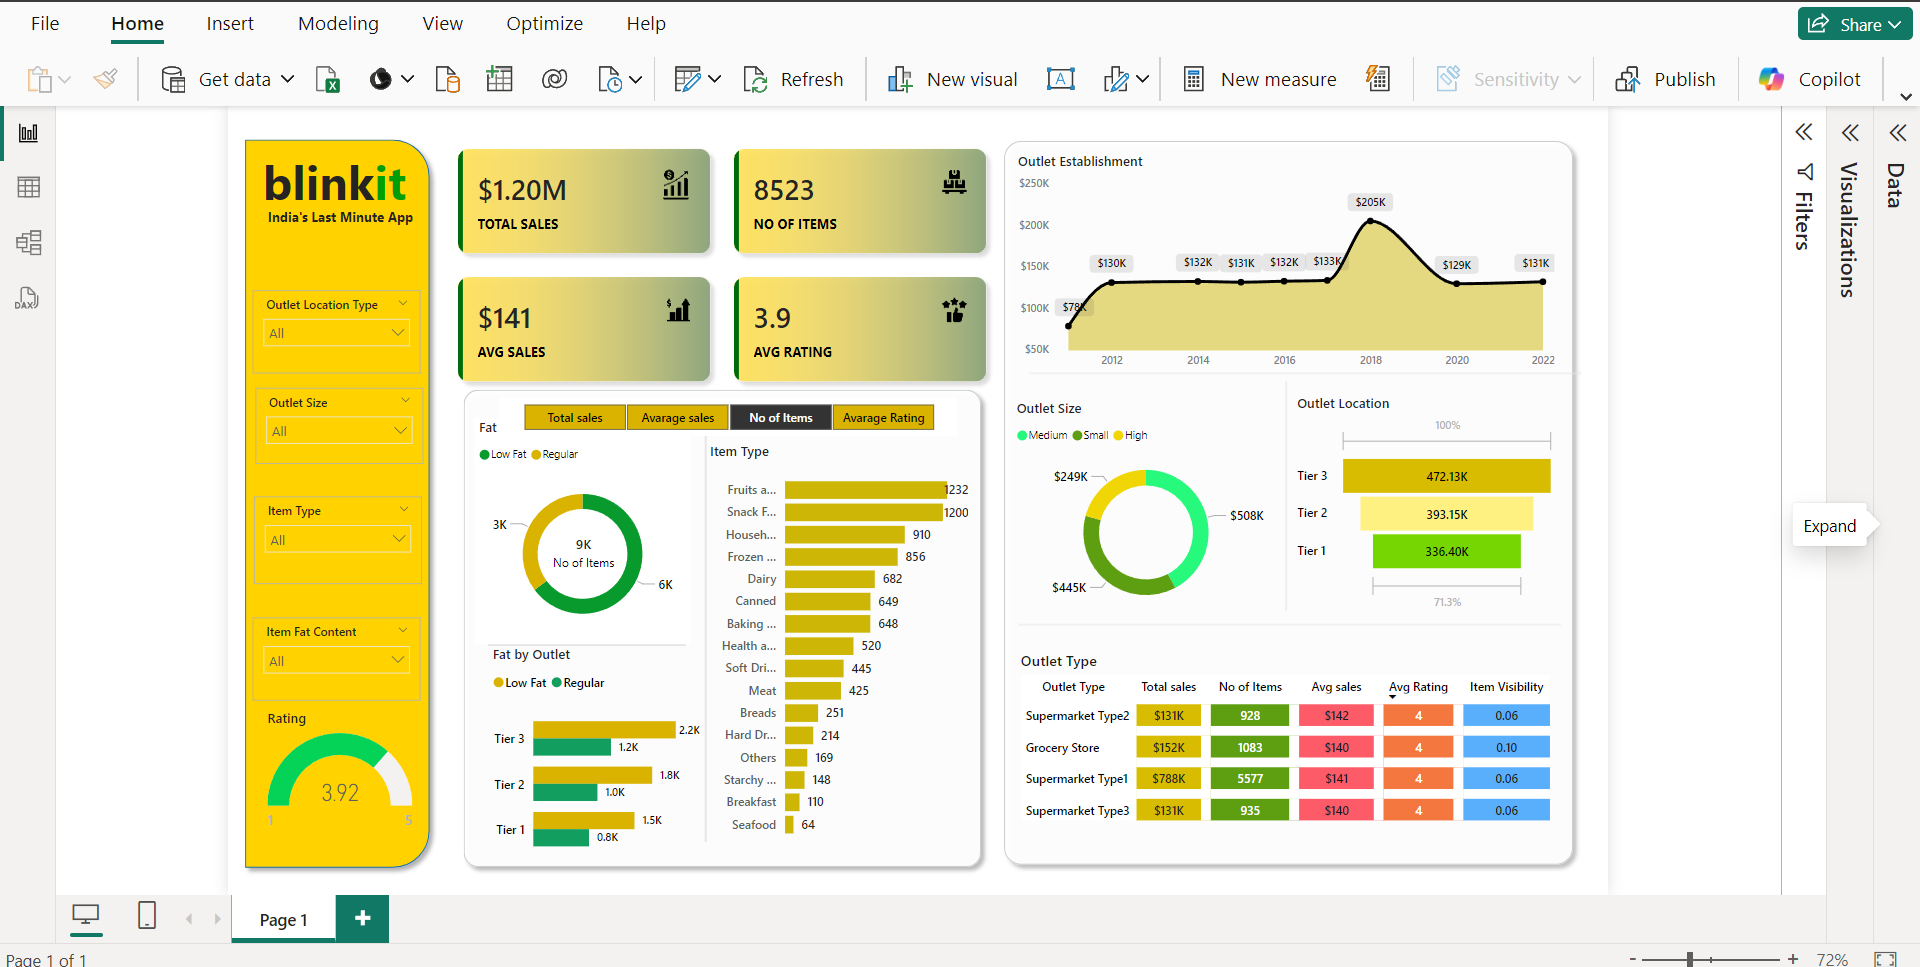

The page's visual inventory and layout, read from the dashboard file:
{"tool":"powerbi","page":{"name":"Page 1","canvas":[1400,800],"ordinal":0},"visuals":[{"type":"shape","box":[8.7,24.7,205.2,756.6],"z":0},{"type":"textbox","box":[8.7,39.3,199.3,74.2],"z":1000},{"type":"textbox","box":[18.9,97.5,189.2,32],"z":2000},{"type":"cardVisual","fields":{"Data":["BlinkIT Grocery Data.Total sales","BlinkIT Grocery Data.No of Items","BlinkIT Grocery Data.Avarage sales","BlinkIT Grocery Data.Avarage Rating"]},"box":[216.8,26.2,570.4,270.6],"z":3000},{"type":"shape","box":[229.9,279.4,542.7,502],"z":4000},{"type":"donutChart","title":"Fat Content","fields":{"Y":["BlinkIT Grocery Data.No of Items"],"Category":["BlinkIT Grocery Data.Item Fat Content"]},"box":[250.3,317.2,219.7,229.9],"z":5000},{"type":"slicer","fields":{"Values":["Metrics.Metrics"]},"box":[275,295.4,465.6,39.3],"z":6000},{"type":"cardVisual","fields":{"Data":["BlinkIT Grocery Data.No of Items"]},"box":[302.6,419.1,116.4,65.5],"z":7000},{"type":"clusteredBarChart","title":"Fat by Outlet","fields":{"Y":["BlinkIT Grocery Data.No of Items"],"Category":["BlinkIT Grocery Data.Outlet Location Type"],"Series":["BlinkIT Grocery Data.Item Fat Content"]},"box":[263.4,547.1,219.7,229.9],"z":8000},{"type":"shape","box":[263.4,526.7,200.8,39.3],"z":9000},{"type":"shape","box":[470,334.7,29.1,411.8],"z":10000},{"type":"barChart","title":" Item Type","fields":{"Y":["BlinkIT Grocery Data.No of Items"],"Category":["BlinkIT Grocery Data.Item Type"]},"box":[484.5,340.5,272.1,411.8],"z":11000},{"type":"shape","box":[778.4,26.2,595.1,752.3],"z":12000},{"type":"lineChart","title":"Outlet Establishment ","fields":{"Category":["BlinkIT Grocery Data.Outlet Establishment Year"],"Y":["BlinkIT Grocery Data.Total sales"]},"box":[795.9,46.6,554.4,229.9],"z":13000},{"type":"shape","box":[813.4,254.6,560.2,32],"z":14000},{"type":"donutChart","title":"Outlet Size","fields":{"Y":["BlinkIT Grocery Data.Total sales"],"Category":["BlinkIT Grocery Data.Outlet Size"]},"box":[794.5,296.8,272.1,225.5],"z":15000},{"type":"shape","box":[1053.5,279.4,40.7,232.8],"z":16000},{"type":"funnel","title":"Outlet Location ","fields":{"Category":["BlinkIT Grocery Data.Outlet Location Type"],"Y":["Sum(BlinkIT Grocery Data.Sales)"]},"box":[1079.6,291,272.1,225.5],"z":17000},{"type":"shape","box":[801.7,519.4,550,14.6],"z":18000},{"type":"pivotTable","title":"Outlet Type","fields":{"Rows":["BlinkIT Grocery Data.Outlet Type"],"Values":["BlinkIT Grocery Data.Total sales","BlinkIT Grocery Data.No of Items","BlinkIT Grocery Data.Avarage sales","BlinkIT Grocery Data.Avarage Rating","Avg(BlinkIT Grocery Data.Item Visibility)"]},"box":[798.8,552.9,554.4,199.3],"z":19000},{"type":"slicer","fields":{"Values":["BlinkIT Grocery Data.Outlet Location Type"]},"box":[24.7,186.2,170.2,84.4],"z":20000},{"type":"slicer","fields":{"Values":["BlinkIT Grocery Data.Outlet Size"]},"box":[27.6,286.6,170.2,77.1],"z":21000},{"type":"slicer","fields":{"Values":["BlinkIT Grocery Data.Item Type"]},"box":[26.2,395.8,170.2,88.8],"z":22000},{"type":"slicer","fields":{"Values":["BlinkIT Grocery Data.Item Fat Content"]},"box":[24.7,519.4,170.2,84.4],"z":23000},{"type":"gauge","title":" Rating","fields":{"MaxValue":["Max(BlinkIT Grocery Data.Rating)"],"Y":["Avg(BlinkIT Grocery Data.Rating)"],"MinValue":["Min(BlinkIT Grocery Data.Rating)1"]},"box":[34.9,611.1,157.1,135.3],"z":23001}]}

Visuals, with their boxes on the page's 1400x800 design canvas (x1, y1, x2, y2). These are canvas units, not pixel positions in the 1920x967 screenshot, which may show the page scaled, cropped or inside an application window:
shape: bbox=[9, 25, 214, 781]
textbox: bbox=[9, 39, 208, 114]
textbox: bbox=[19, 98, 208, 130]
cardVisual - BlinkIT Grocery Data.Total sales x BlinkIT Grocery Data.No of Items: bbox=[217, 26, 787, 297]
shape: bbox=[230, 279, 773, 781]
"Fat Content" donutChart: bbox=[250, 317, 470, 547]
slicer - Metrics.Metrics: bbox=[275, 295, 741, 335]
cardVisual - BlinkIT Grocery Data.No of Items: bbox=[303, 419, 419, 485]
"Fat by Outlet" clusteredBarChart: bbox=[263, 547, 483, 777]
shape: bbox=[263, 527, 464, 566]
shape: bbox=[470, 335, 499, 746]
" Item Type" barChart: bbox=[484, 340, 757, 752]
shape: bbox=[778, 26, 1374, 778]
"Outlet Establishment " lineChart: bbox=[796, 47, 1350, 276]
shape: bbox=[813, 255, 1374, 287]
"Outlet Size" donutChart: bbox=[794, 297, 1067, 522]
shape: bbox=[1054, 279, 1094, 512]
"Outlet Location " funnel: bbox=[1080, 291, 1352, 516]
shape: bbox=[802, 519, 1352, 534]
"Outlet Type" pivotTable: bbox=[799, 553, 1353, 752]
slicer - BlinkIT Grocery Data.Outlet Location Type: bbox=[25, 186, 195, 271]
slicer - BlinkIT Grocery Data.Outlet Size: bbox=[28, 287, 198, 364]
slicer - BlinkIT Grocery Data.Item Type: bbox=[26, 396, 196, 485]
slicer - BlinkIT Grocery Data.Item Fat Content: bbox=[25, 519, 195, 604]
" Rating" gauge: bbox=[35, 611, 192, 746]
